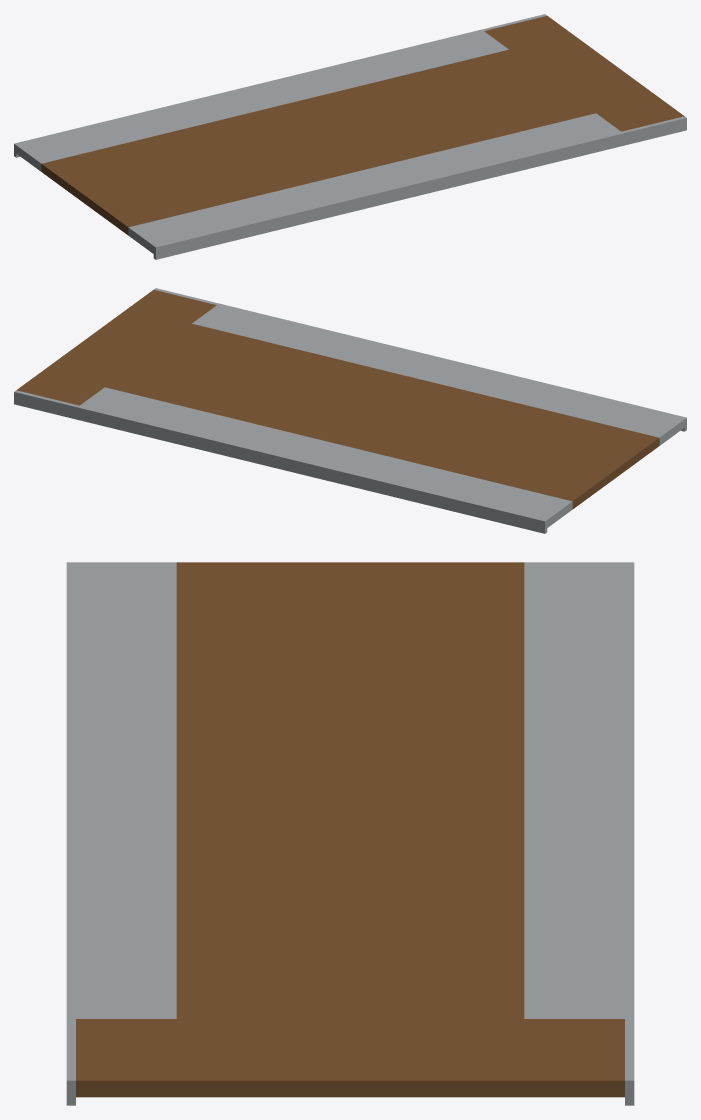
Rendered from car_trailer_deck.glb.
3 renders of one model, top to bottom at view 1: azimuth 30°, elevation 25°; view 2: azimuth 150°, elevation 25°; view 3: azimuth 270°, elevation 25°, orthographic. The views are drawn at different scales.
Visible parts, largest first — view 1: body:compound; view 2: body:compound; view 3: body:compound.
Part boxes in pixels (bbox=[...]): body:compound: bbox=[14, 14, 686, 259]; body:compound: bbox=[14, 288, 686, 533]; body:compound: bbox=[66, 562, 634, 1105].
Size of the model in its own units: 4.19 by 0.0938 by 1.94.
